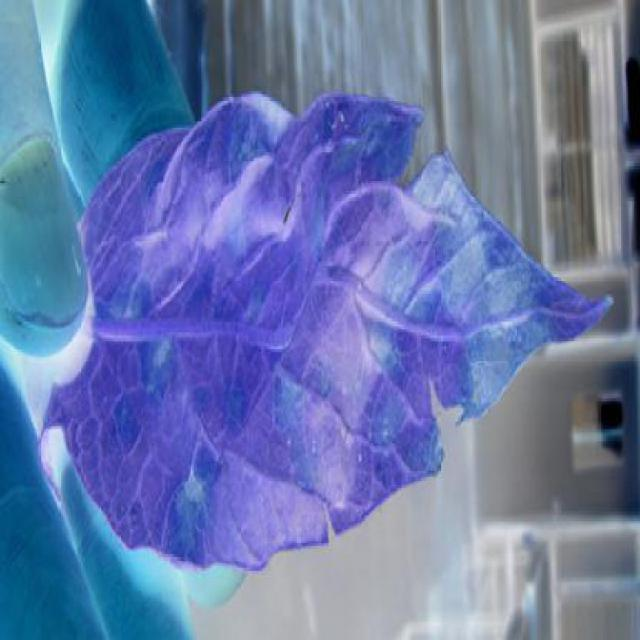Tomato mold leaf: (64, 83, 620, 605)
